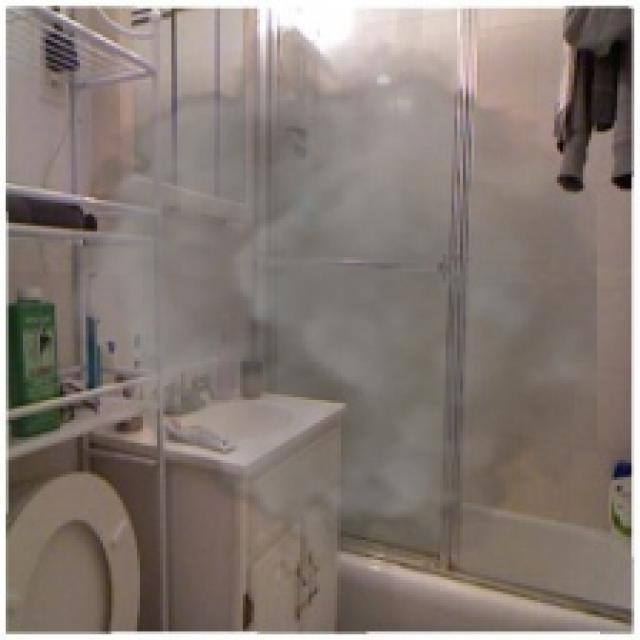Smoke: (72, 32, 598, 574)
